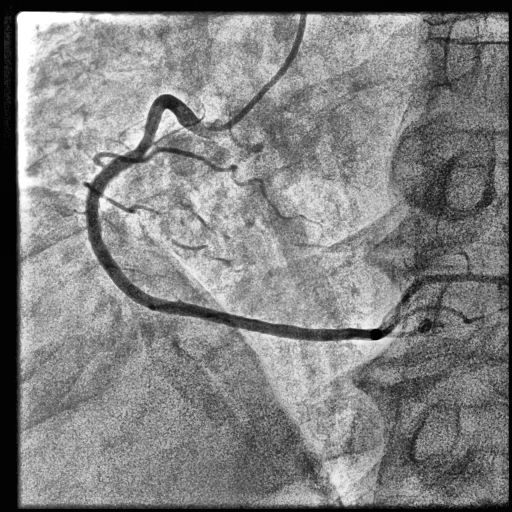rca: (86, 95, 380, 342)
